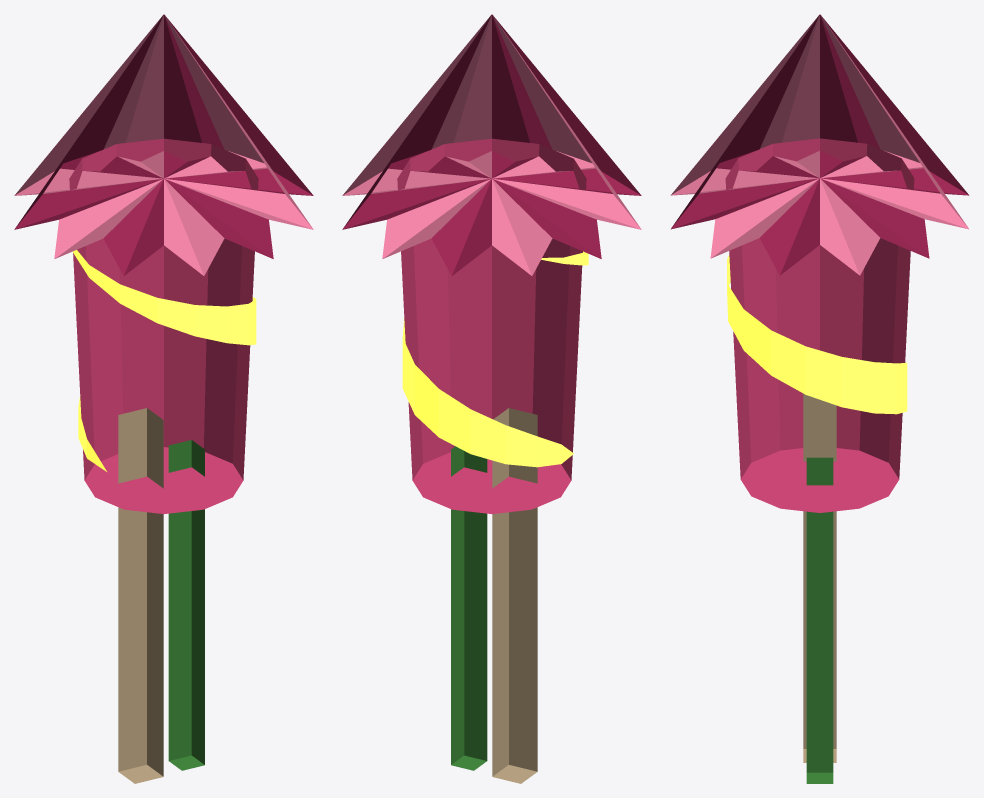
Rendered from rocket_rose.glb.
3 renders of one model, left to right at view 1: azimuth 30°, elevation 25°; view 2: azimuth 150°, elevation 25°; view 3: azimuth 270°, elevation 25°, orthographic.
Visible parts, largest first — view 1: body, fan_a, fan_b, stick, fuse, emblem; view 2: body, fan_a, fan_b, stick, fuse, emblem; view 3: body, fan_a, fan_b, emblem, fuse, stick.
Part boxes in pixels (x1,y1,x2,y2): body: (69,138,258,513); fan_a: (14,14,313,275); fan_b: (14,14,313,275); stick: (118,408,163,783); fuse: (168,440,204,770); emblem: (72,250,256,471); body: (397,138,586,513); fan_a: (342,14,641,275); fan_b: (342,14,641,275); stick: (492,408,537,783); fuse: (451,446,487,770); emblem: (402,251,588,467); body: (725,138,914,512); fan_a: (671,14,969,275); fan_b: (670,14,968,275); emblem: (727,255,907,414); fuse: (806,457,833,783); stick: (803,393,836,762).
Size of the model in its own units: 0.396 by 1.1 by 0.396.
